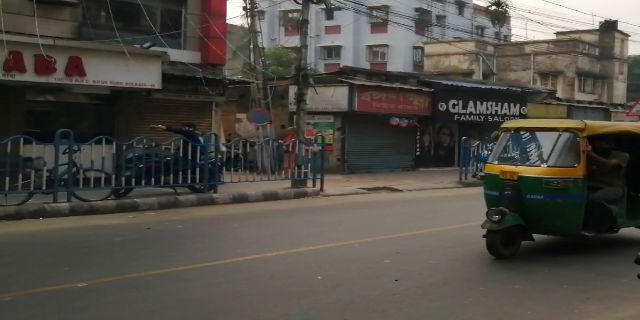Autorickshaw: (485, 116, 640, 254)
